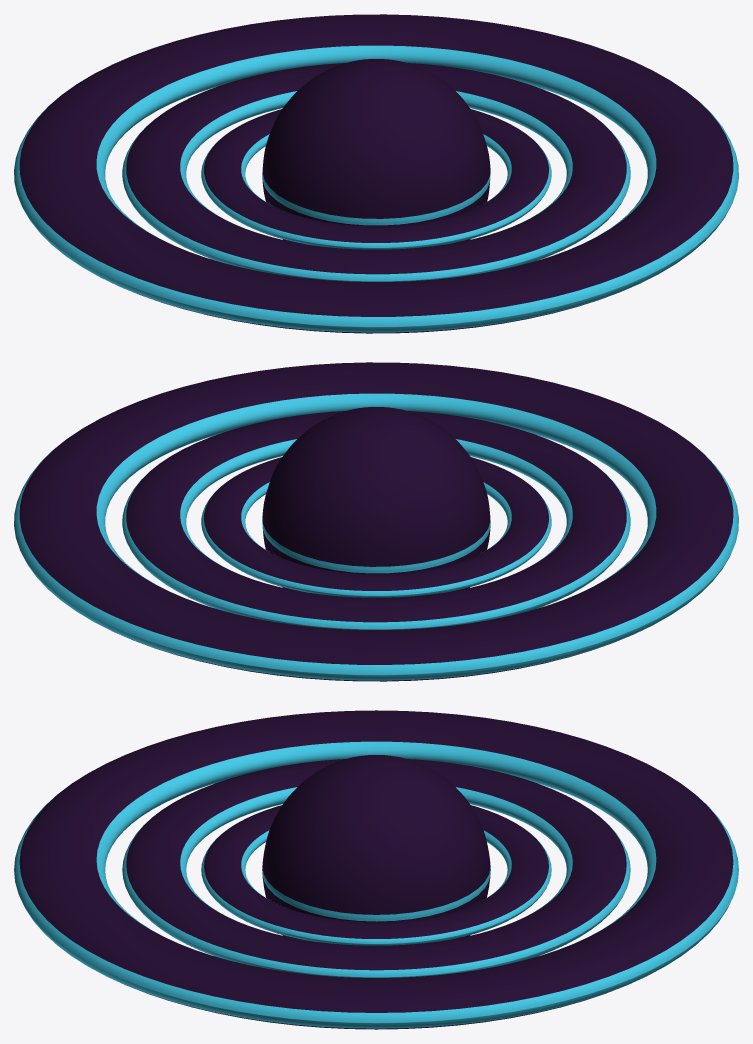
Rendered from trou_noir_export_5.fbx.
The picture shows the model from 3 angles, top to bottom: view 1: azimuth 30°, elevation 25°; view 2: azimuth 150°, elevation 25°; view 3: azimuth 270°, elevation 25°; orthographic projection.
Visible parts, largest first — view 1: pTorus5, pTorus4, pSphere1, pTorus1; view 2: pTorus5, pTorus4, pSphere1, pTorus1; view 3: pTorus5, pTorus4, pSphere1, pTorus1.
Boxes of the visible parts, box(x1,y1,x2,y2) form: pTorus5: box(14, 14, 738, 333); pTorus4: box(122, 63, 630, 281); pSphere1: box(262, 59, 490, 242); pTorus1: box(201, 109, 551, 249); pTorus5: box(14, 362, 738, 681); pTorus4: box(122, 411, 630, 629); pSphere1: box(262, 407, 490, 590); pTorus1: box(201, 457, 551, 597); pTorus5: box(14, 710, 738, 1029); pTorus4: box(122, 759, 630, 977); pSphere1: box(262, 755, 490, 937); pTorus1: box(201, 805, 551, 945).
Bounding box in the file's own units: 6.26 × 2 × 6.26.
